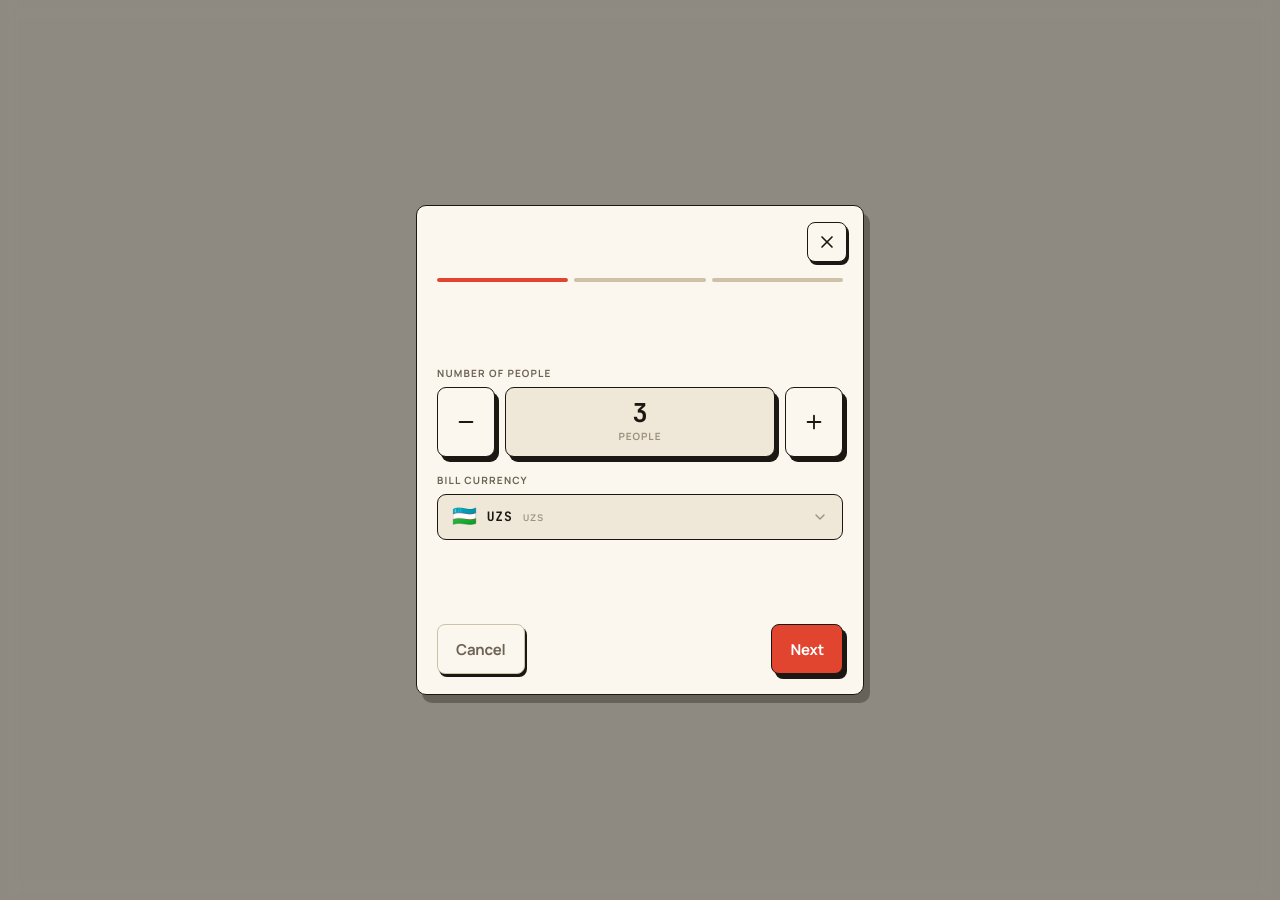
Test case: CreateBillWizard — three steps › goes back without losing what was already entered
The width and height of the screenshot is (1280, 900).
Click the button named "+" at x=814, y=422, box [785,387,843,457]
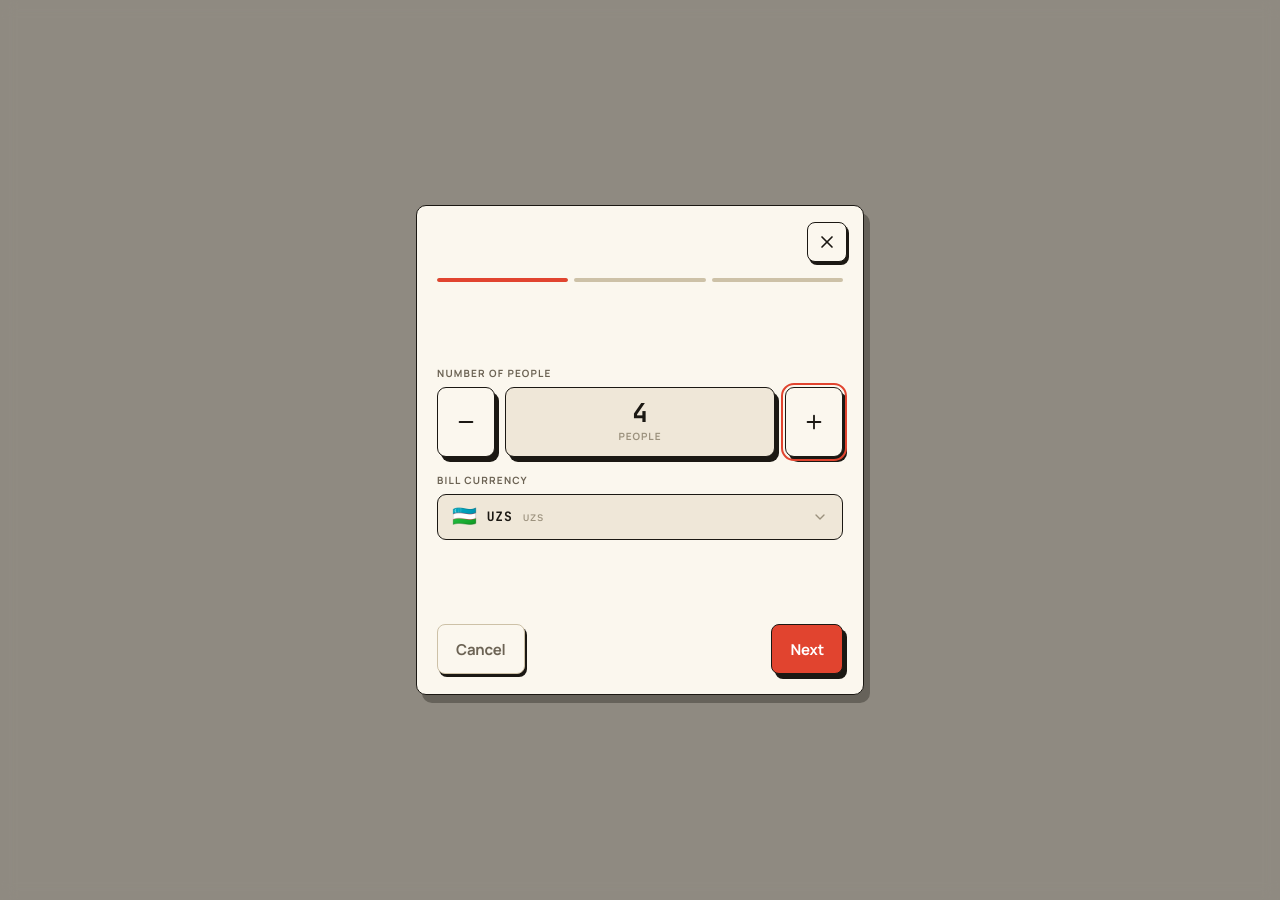
Click the button "Next" at x=807, y=649, box [771,624,843,674]
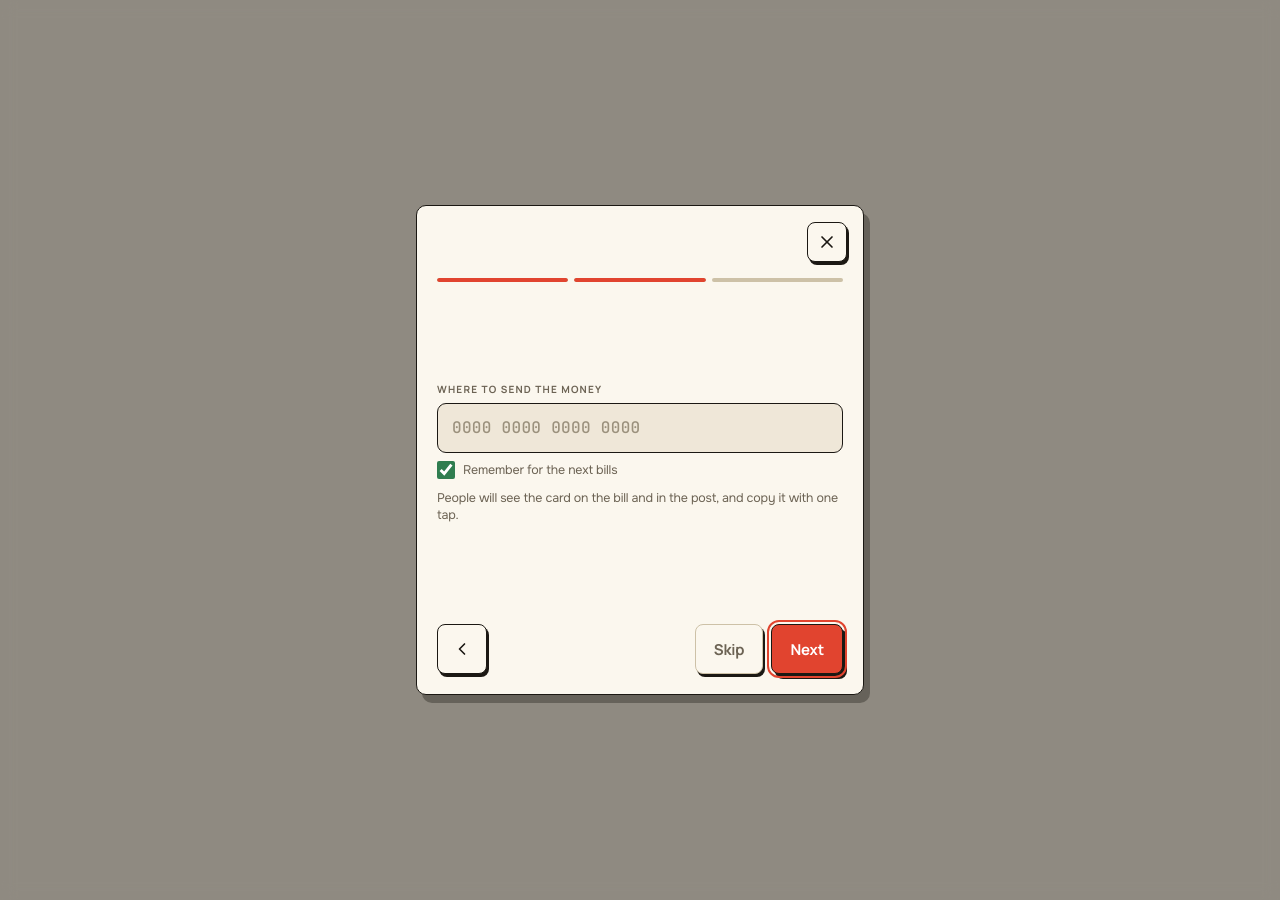
Click the button named "back" at x=462, y=649, box [437,624,487,674]
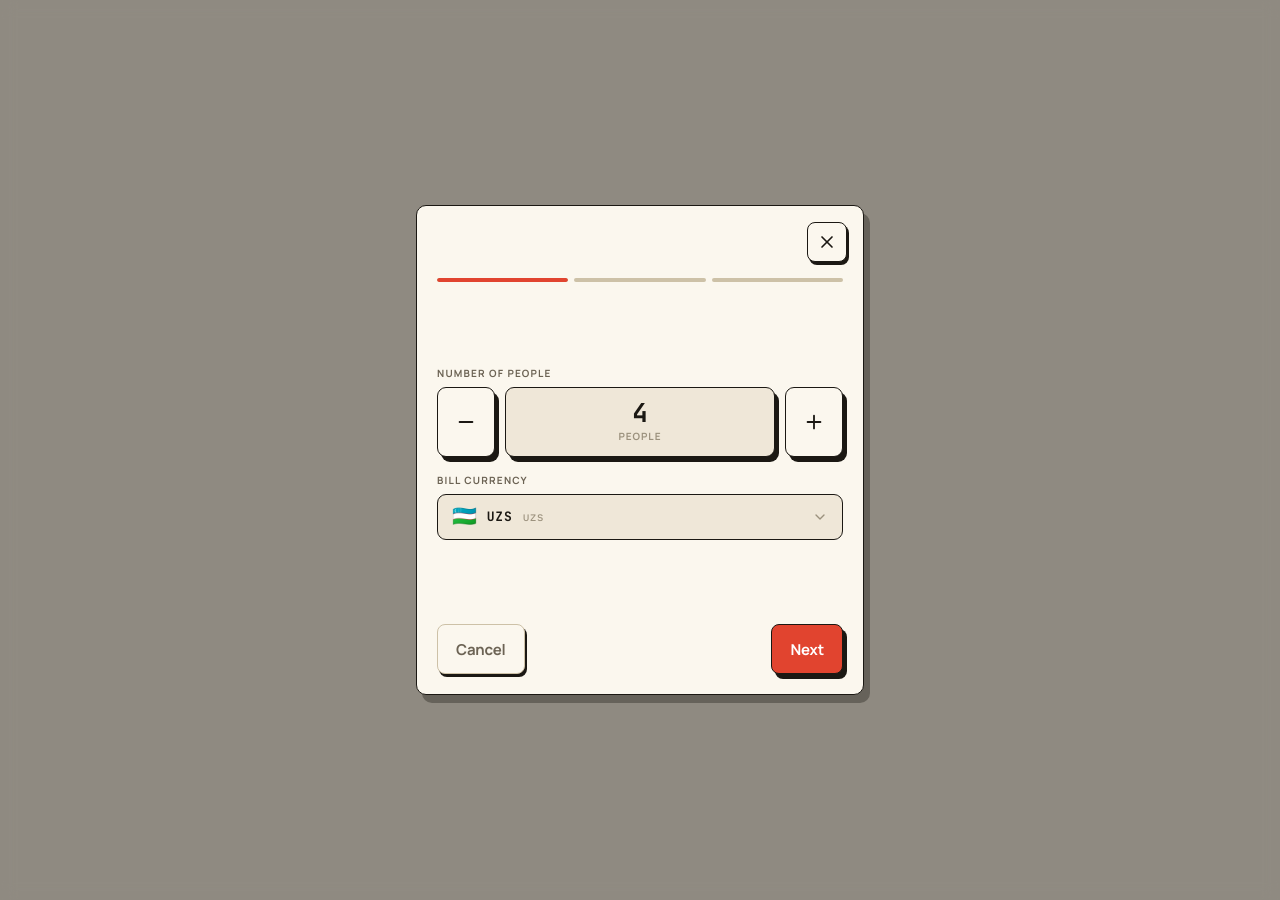
Now the text "4" is shown, box [632,400,648,426]
